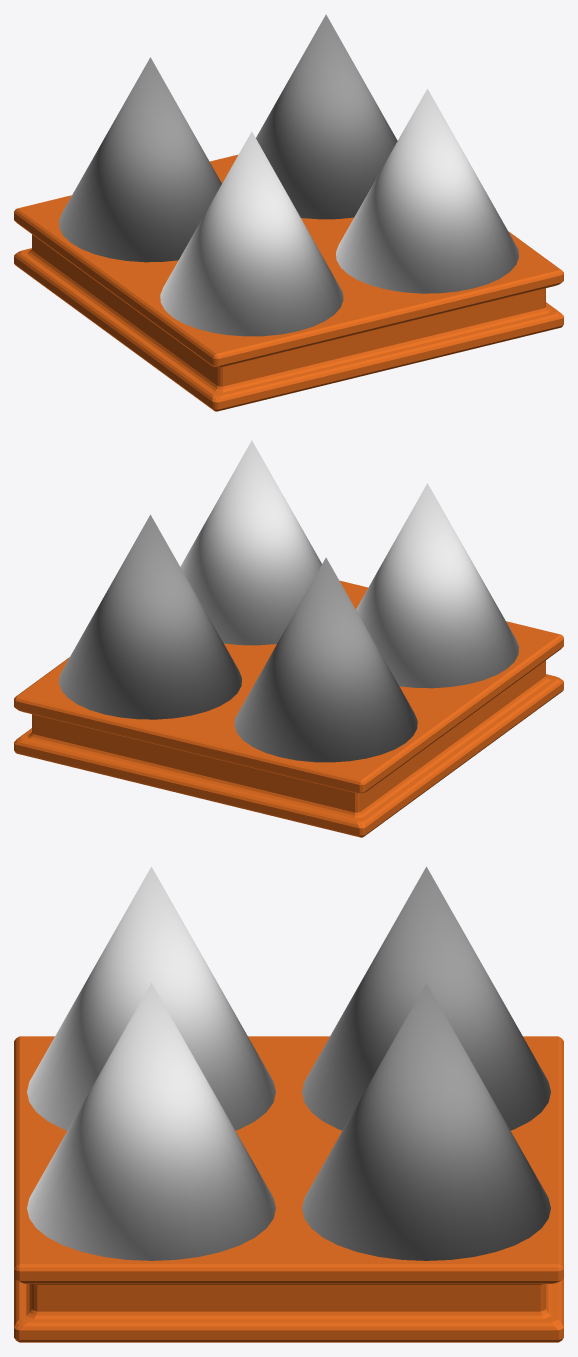
File: spike.fbx
3 renders of one model, top to bottom at view 1: azimuth 30°, elevation 25°; view 2: azimuth 150°, elevation 25°; view 3: azimuth 270°, elevation 25°, orthographic. The views are drawn at different scales.
Parts seen in each view (by area): view 1: Base, Spike.003, Spike.002, Spike.001, Spike; view 2: Base, Spike.001, Spike, Spike.003, Spike.002; view 3: Base, Spike, Spike.002, Spike.001, Spike.003.
Boxes of the visible parts, <box> form: Base: <box>14,154,563,411</box>; Spike.003: <box>160,131,343,336</box>; Spike.002: <box>336,88,518,293</box>; Spike.001: <box>59,57,221,262</box>; Spike: <box>256,14,397,219</box>; Base: <box>14,580,563,837</box>; Spike.001: <box>234,557,417,762</box>; Spike: <box>59,514,241,719</box>; Spike.003: <box>356,483,518,688</box>; Spike.002: <box>180,440,321,645</box>; Base: <box>14,1036,563,1342</box>; Spike: <box>302,983,550,1260</box>; Spike.002: <box>27,983,275,1260</box>; Spike.001: <box>302,866,550,1130</box>; Spike.003: <box>27,866,275,1130</box>.
Bounding box in the file's own units: 200 × 122 × 200.
